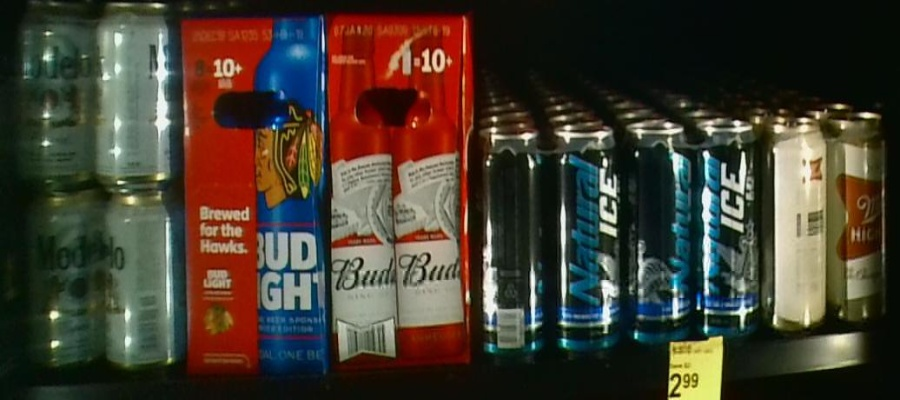bottle: (17, 1, 179, 373), (179, 16, 327, 381), (327, 10, 471, 364), (478, 131, 625, 360), (630, 126, 764, 340), (769, 120, 883, 334)
